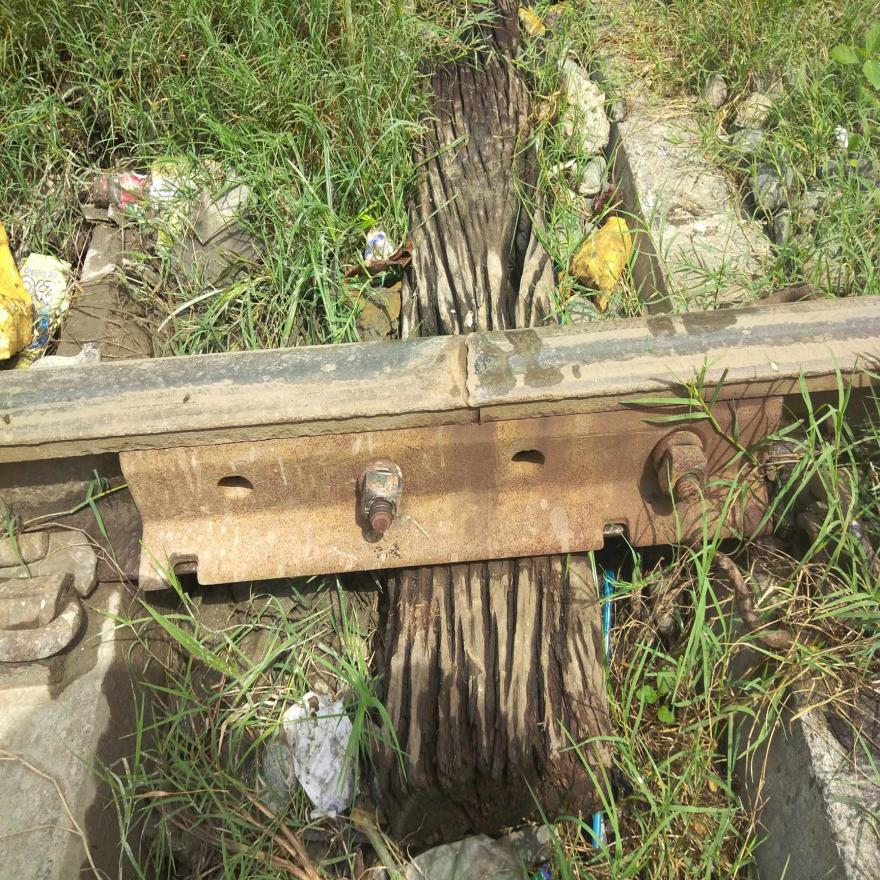railway-gap: (414, 305, 522, 436)
